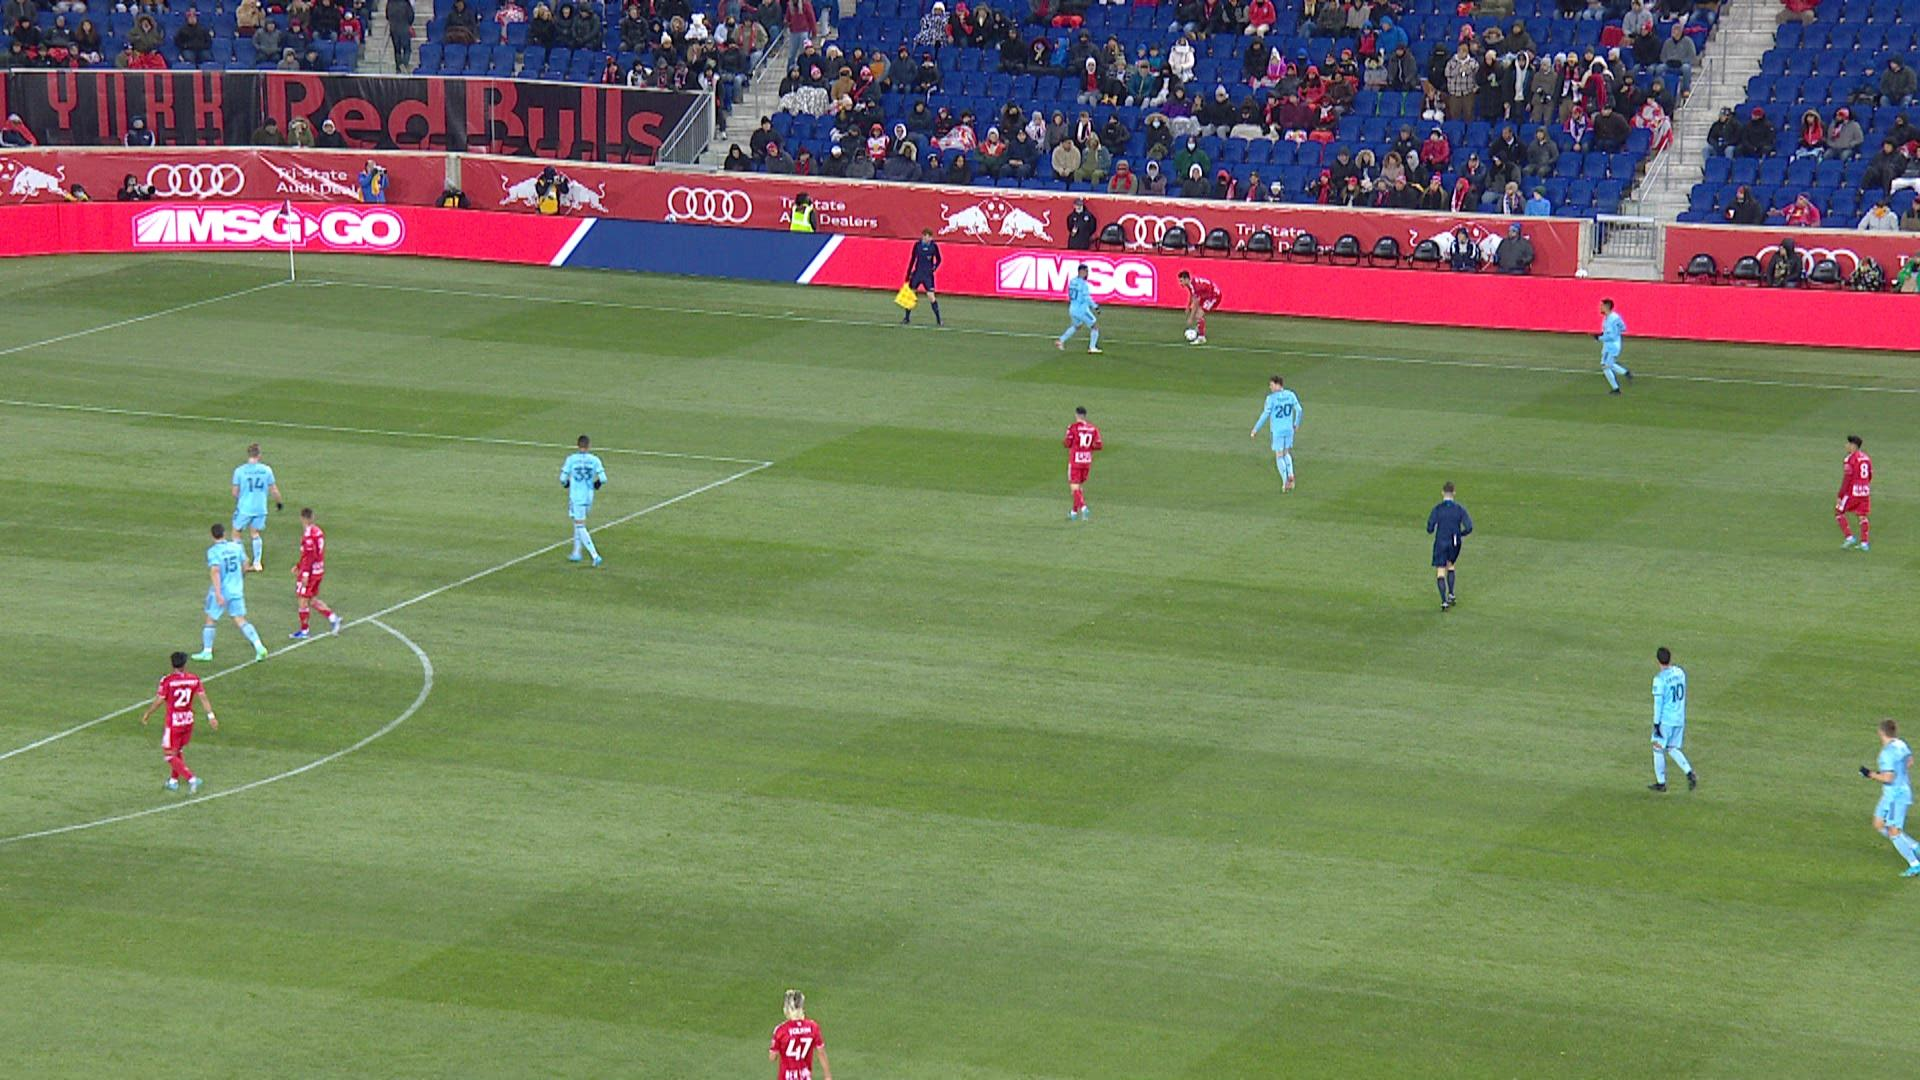football: (1183, 328, 1197, 340)
